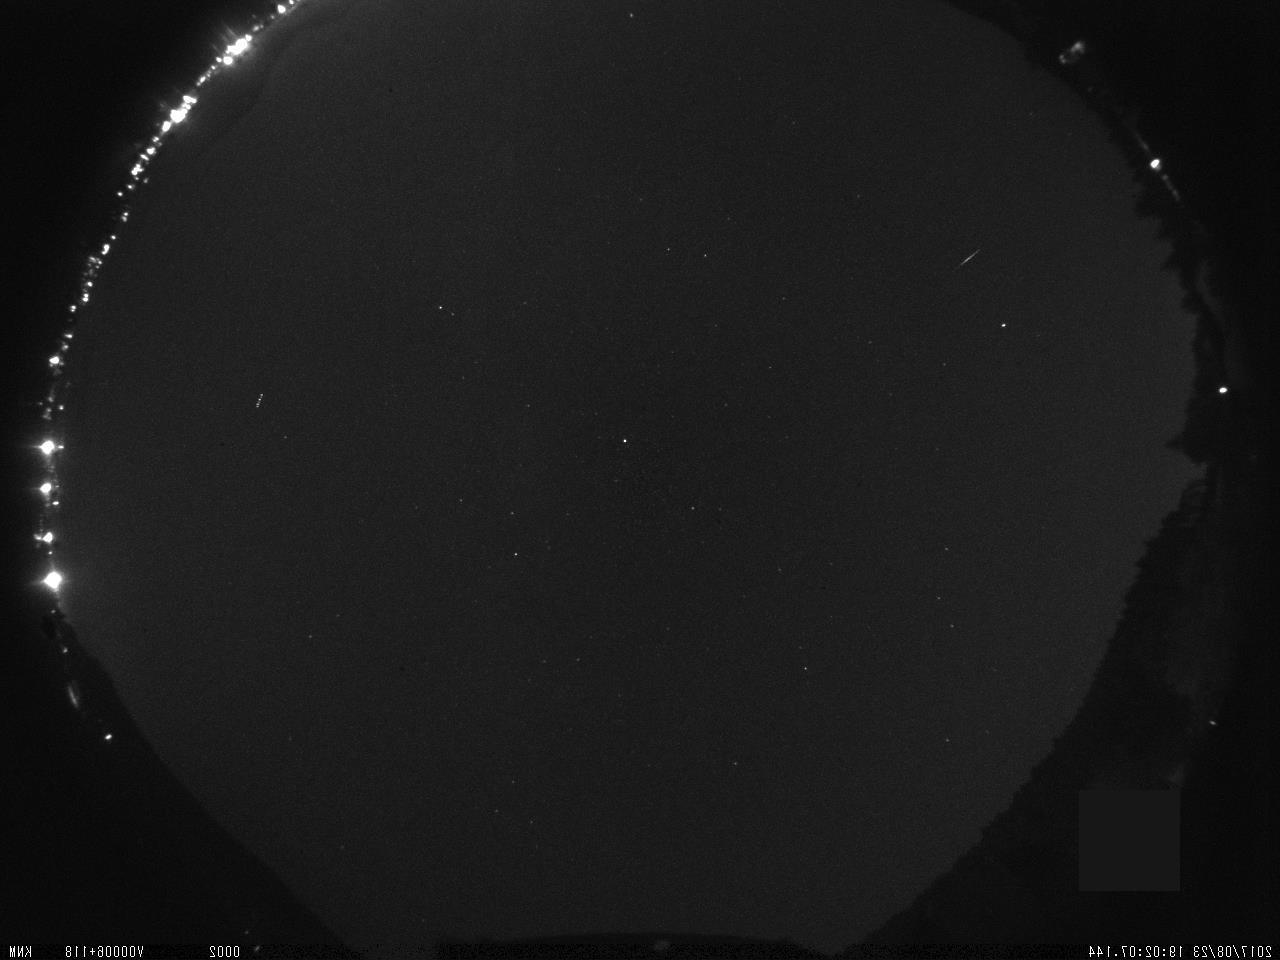meteor: (948, 242, 988, 277)
satelite: (249, 387, 270, 417)
